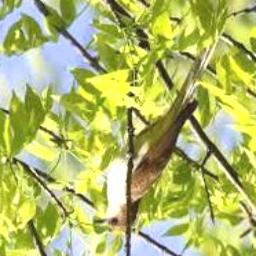Cuckoo: (94, 34, 220, 232)
